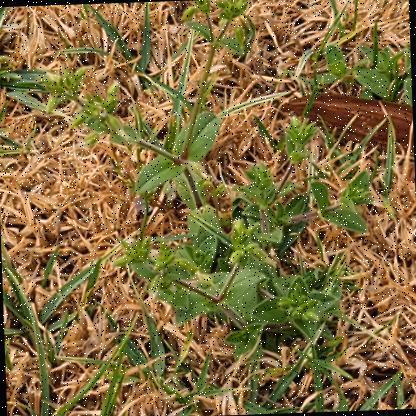Weeds: (32, 0, 377, 364), (316, 40, 413, 121)
